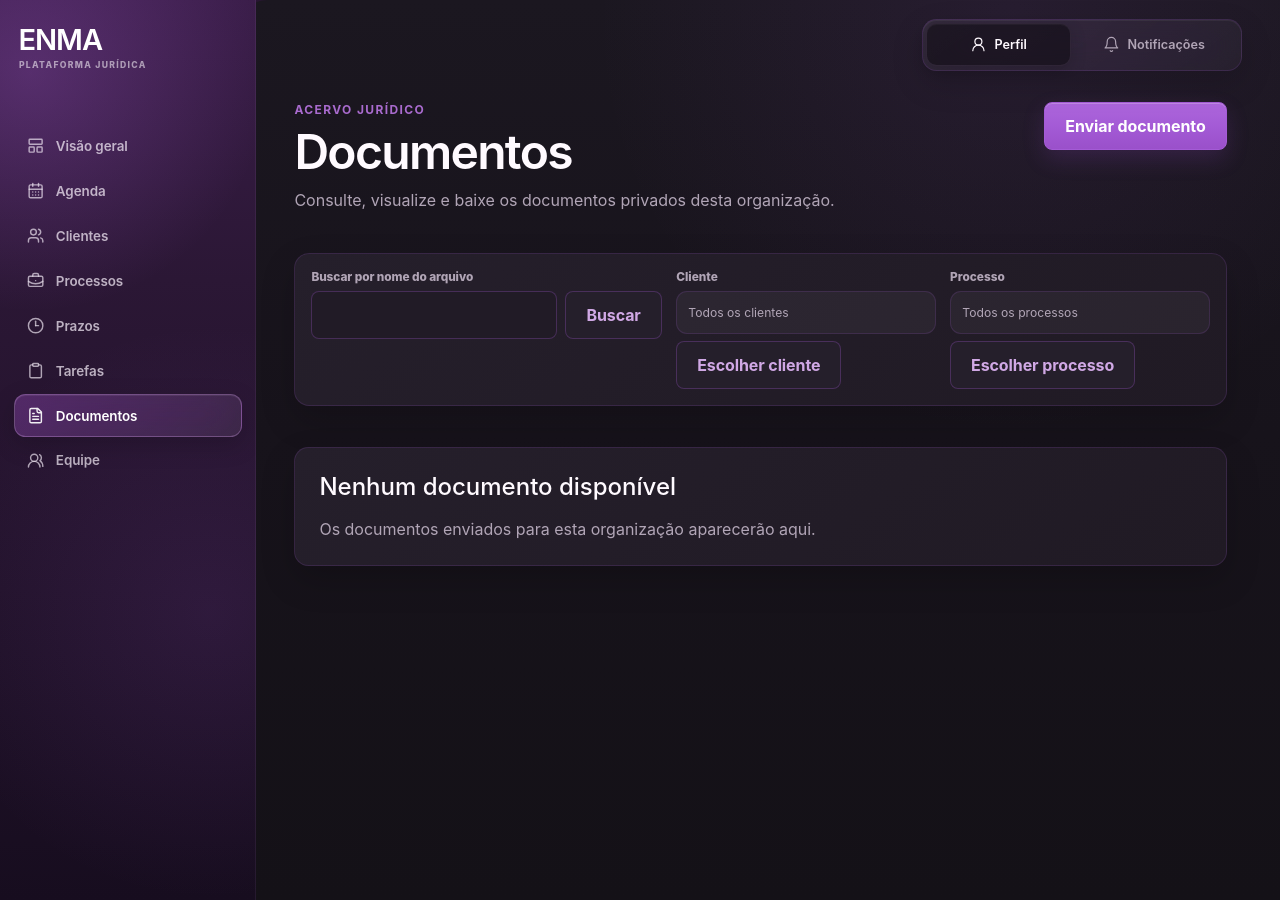
Test: Documents D1 flow › DocumentsRoute_EmptyAndFilteredEmptyUseDistinctSafeStates
This screenshot has width=1280, height=900.
Check: the heading "Nenhum documento disponível" is shown, box left=319, top=472, right=676, bottom=501
Type "petição" into the field labelled "Buscar por nome do arquivo".
click(434, 315); type("petição")  # box left=311, top=291, right=557, bottom=339
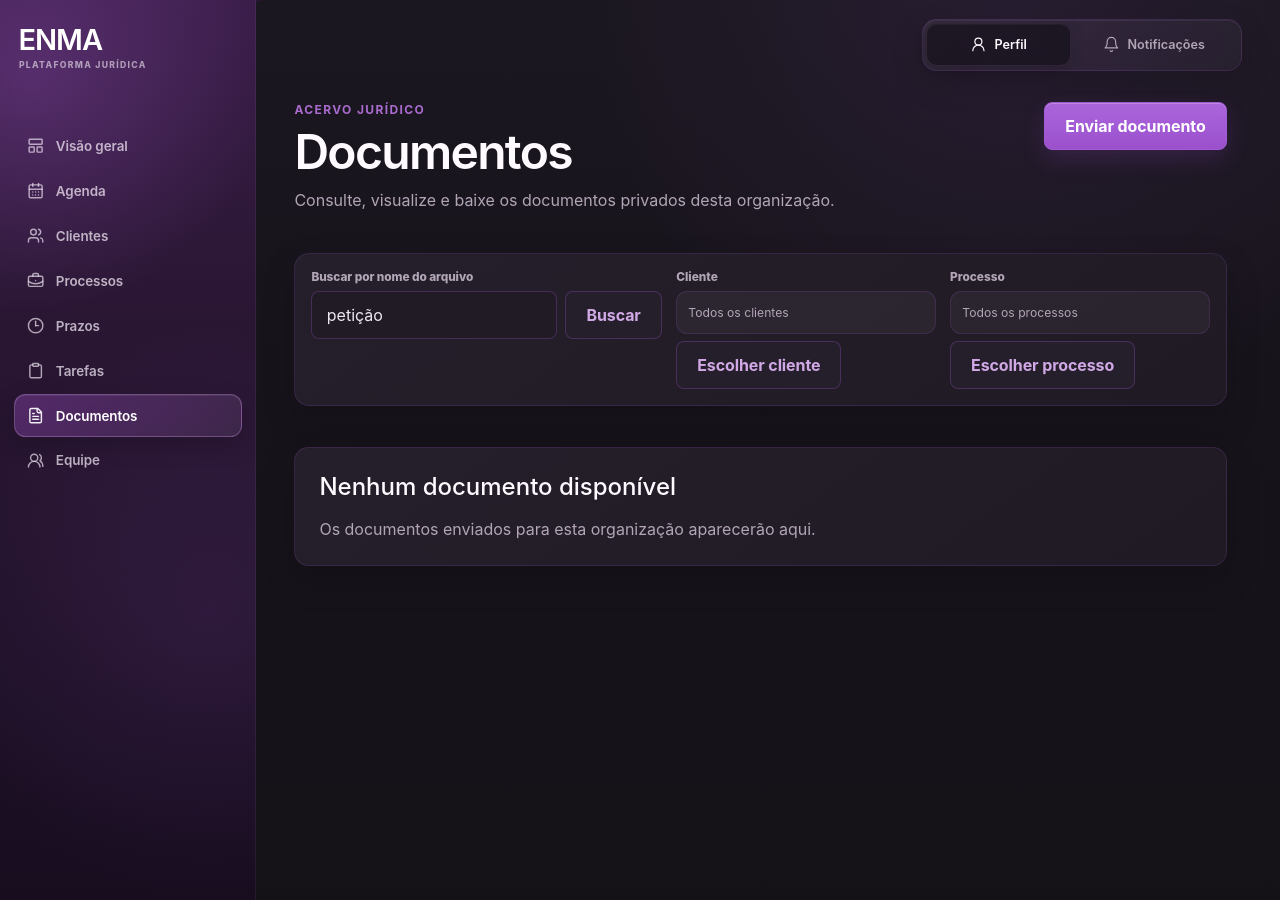
Submit the form "Buscar", box left=311, top=270, right=662, bottom=339
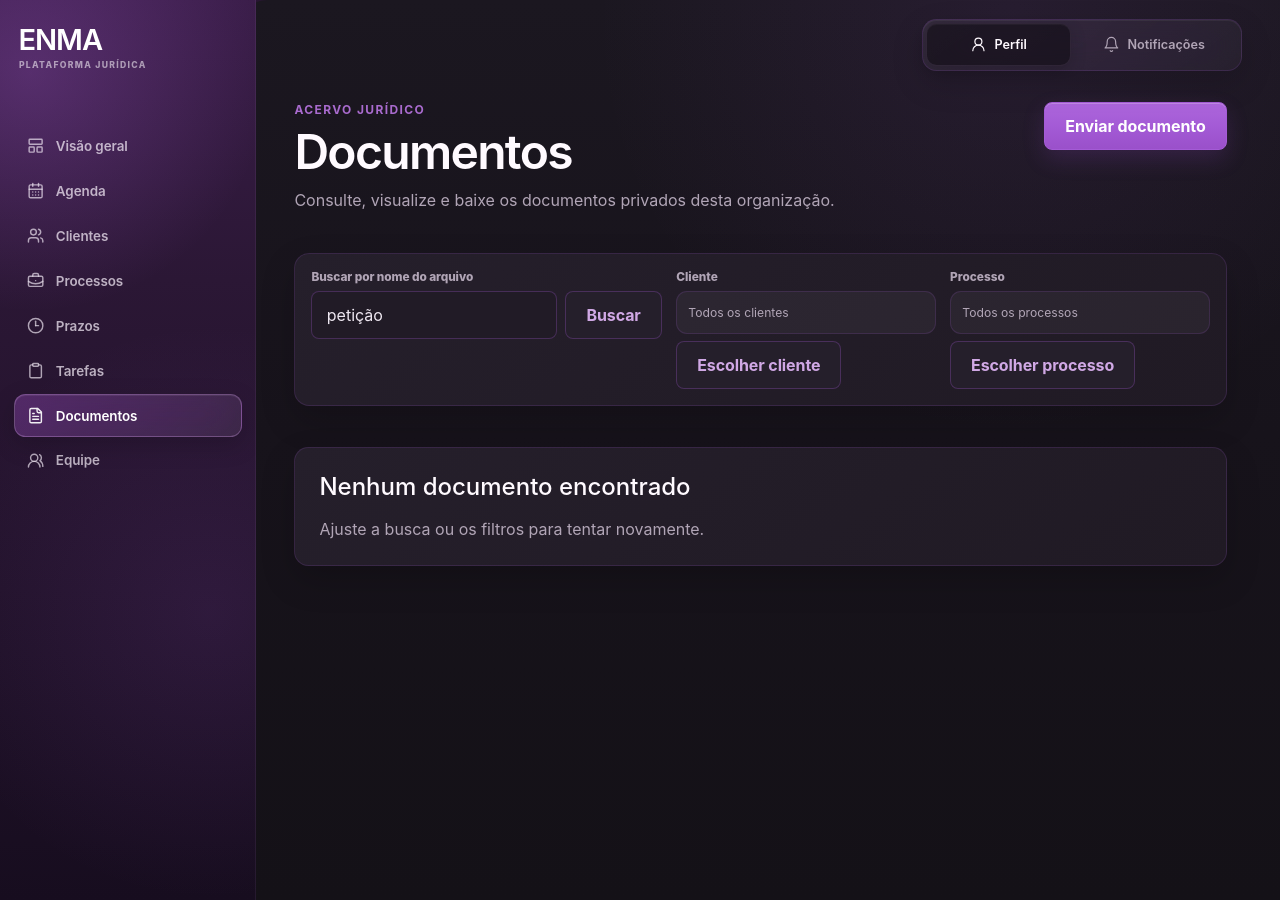
Check: the heading "Nenhum documento encontrado" is shown, box left=319, top=472, right=691, bottom=501
